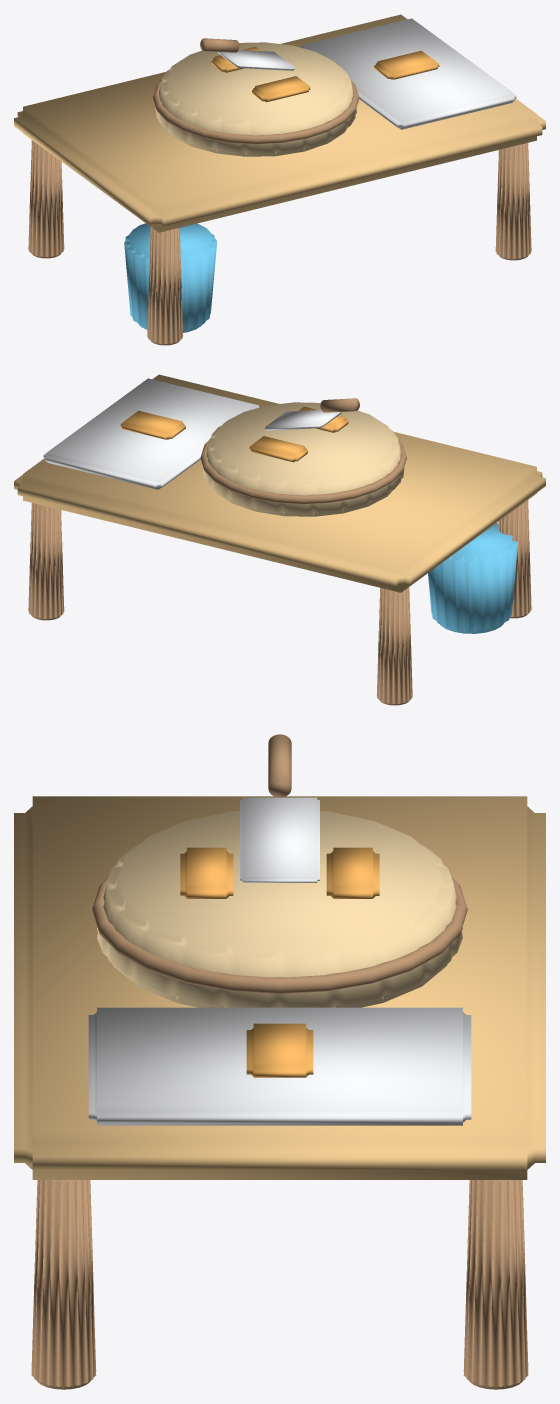
The model's file is Station_FilletingTable.fbx.
3 renders of one model, top to bottom at view 1: azimuth 30°, elevation 25°; view 2: azimuth 150°, elevation 25°; view 3: azimuth 270°, elevation 25°, orthographic. The views are drawn at different scales.
Visible parts, largest first — view 1: Tabletop, Stump, Tray, Bucket, Leg_-1.1_-0.65, Leg_1.1_-0.65, Leg_-1.1_0.65, StumpBark, Tray_Fillet, Cleaver_Blade, Fillet_1, Cleaver_Handle; view 2: Tabletop, Stump, Tray, Bucket, Leg_-1.1_0.65, Leg_1.1_0.65, StumpBark, Leg_-1.1_-0.65, Tray_Fillet, Cleaver_Blade, Fillet_2, Cleaver_Handle; view 3: Tabletop, Stump, Tray, Leg_1.1_0.65, Leg_1.1_-0.65, StumpBark, Cleaver_Blade, Tray_Fillet, Fillet_1, Fillet_2, Cleaver_Handle.
Boxes of the visible parts, box(x1,y1,x2,y2) form: Tabletop: box(14, 14, 545, 232); Stump: box(155, 42, 356, 156); Tray: box(300, 18, 516, 129); Bucket: box(124, 223, 216, 332); Leg_-1.1_-0.65: box(147, 227, 183, 345); Leg_1.1_-0.65: box(495, 143, 531, 260); Leg_-1.1_0.65: box(28, 140, 64, 258); StumpBark: box(153, 80, 359, 144); Tray_Fillet: box(374, 50, 439, 79); Cleaver_Blade: box(218, 50, 295, 70); Fillet_1: box(252, 76, 310, 102); Cleaver_Handle: box(200, 38, 239, 52); Tabletop: box(14, 374, 545, 592); Stump: box(203, 402, 404, 516); Tray: box(43, 378, 259, 489); Bucket: box(428, 523, 517, 633); Leg_-1.1_0.65: box(376, 587, 412, 705); Leg_1.1_0.65: box(28, 503, 64, 620); StumpBark: box(200, 440, 406, 504); Leg_-1.1_-0.65: box(498, 500, 531, 618); Tray_Fillet: box(120, 410, 185, 439); Cleaver_Blade: box(264, 410, 341, 430); Fillet_2: box(249, 436, 307, 462); Cleaver_Handle: box(320, 398, 359, 412); Tabletop: box(14, 796, 545, 1179); Stump: box(97, 811, 462, 1007); Tray: box(88, 1007, 471, 1125); Leg_1.1_0.65: box(463, 1180, 528, 1389); Leg_1.1_-0.65: box(31, 1180, 96, 1389); StumpBark: box(92, 877, 467, 993); Cleaver_Blade: box(240, 797, 319, 882); Tray_Fillet: box(246, 1023, 313, 1077); Fillet_1: box(180, 847, 233, 898); Fillet_2: box(326, 847, 379, 898); Cleaver_Handle: box(268, 734, 291, 797).
Size of the model in its own units: 2.5 by 1.4 by 1.6.
